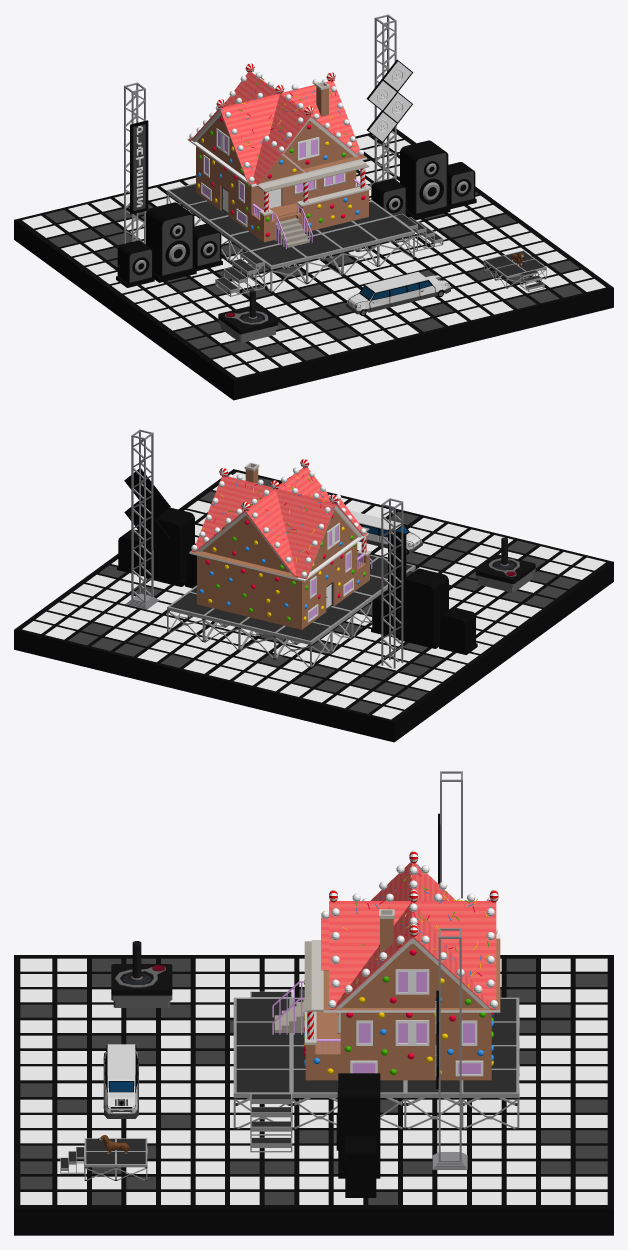
3 renders of one model, top to bottom at view 1: azimuth 30°, elevation 25°; view 2: azimuth 150°, elevation 25°; view 3: azimuth 270°, elevation 25°, orthographic. The views are drawn at different scales.
Visible parts, largest first — view 1: Cube.008, Cube.1203, VEHICLES_LIMOUSINE, OBJRANDOM_JOYSTICK; view 2: Cube.008, Cube.1203, OBJRANDOM_JOYSTICK, VEHICLES_LIMOUSINE; view 3: Cube.008, Cube.1203, OBJRANDOM_JOYSTICK, VEHICLES_LIMOUSINE.
Part boxes in pixels (left/top/right/bottom): Cube.008: left=14, top=14, right=613, bottom=400; Cube.1203: left=187, top=63, right=371, bottom=248; VEHICLES_LIMOUSINE: left=345, top=272, right=450, bottom=315; OBJRANDOM_JOYSTICK: left=218, top=290, right=278, bottom=342; Cube.008: left=14, top=429, right=613, bottom=742; Cube.1203: left=189, top=459, right=372, bottom=629; OBJRANDOM_JOYSTICK: left=475, top=537, right=535, bottom=592; VEHICLES_LIMOUSINE: left=350, top=510, right=423, bottom=554; Cube.008: left=14, top=771, right=613, bottom=1235; Cube.1203: left=272, top=850, right=500, bottom=1080; OBJRANDOM_JOYSTICK: left=111, top=941, right=172, bottom=1007; VEHICLES_LIMOUSINE: left=103, top=1044, right=138, bottom=1118.
Size of the model in its own units: 4000 by 2073 by 4000.
Materials: 48 (2 with a texture image).
